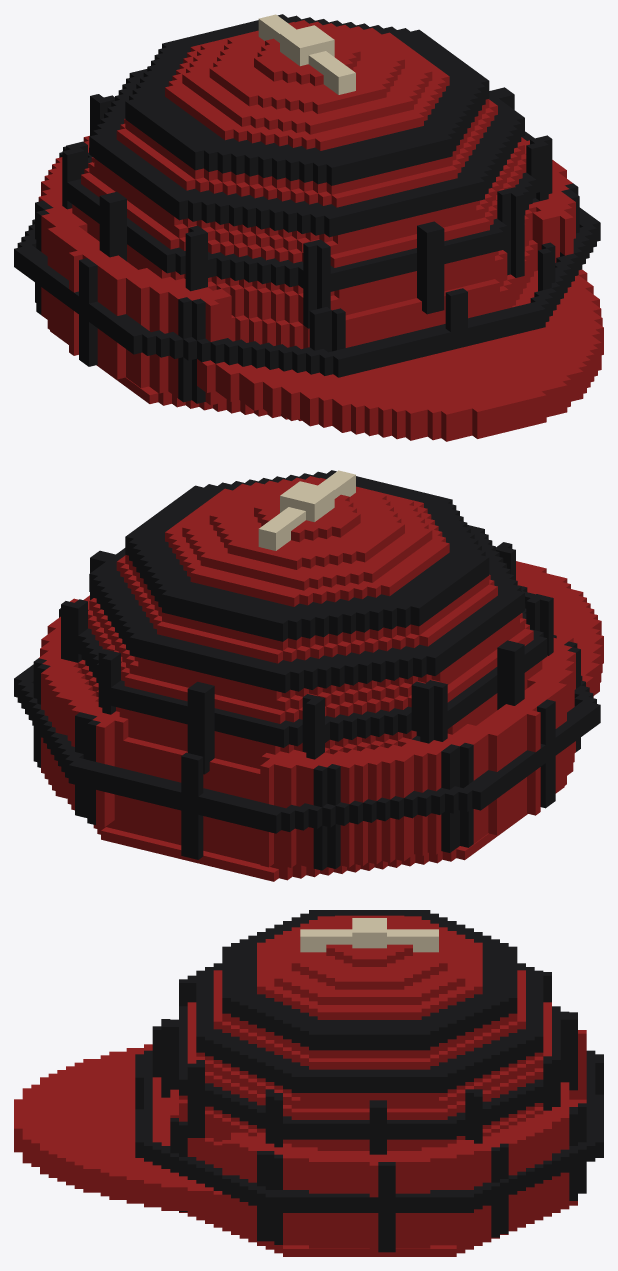
File: hunting_cap.glb
The picture shows the model from 3 angles, top to bottom: view 1: azimuth 30°, elevation 25°; view 2: azimuth 150°, elevation 25°; view 3: azimuth 270°, elevation 25°; orthographic projection. The views are drawn at different scales.
Visible parts, largest first — view 1: hunting_cap:compound; view 2: hunting_cap:compound; view 3: hunting_cap:compound.
Boxes of the visible parts, <box> form: hunting_cap:compound: <box>14,14,603,441</box>; hunting_cap:compound: <box>14,470,603,881</box>; hunting_cap:compound: <box>14,910,603,1256</box>.
Bounding box in the file's own units: 0.216 × 0.124 × 0.272.
